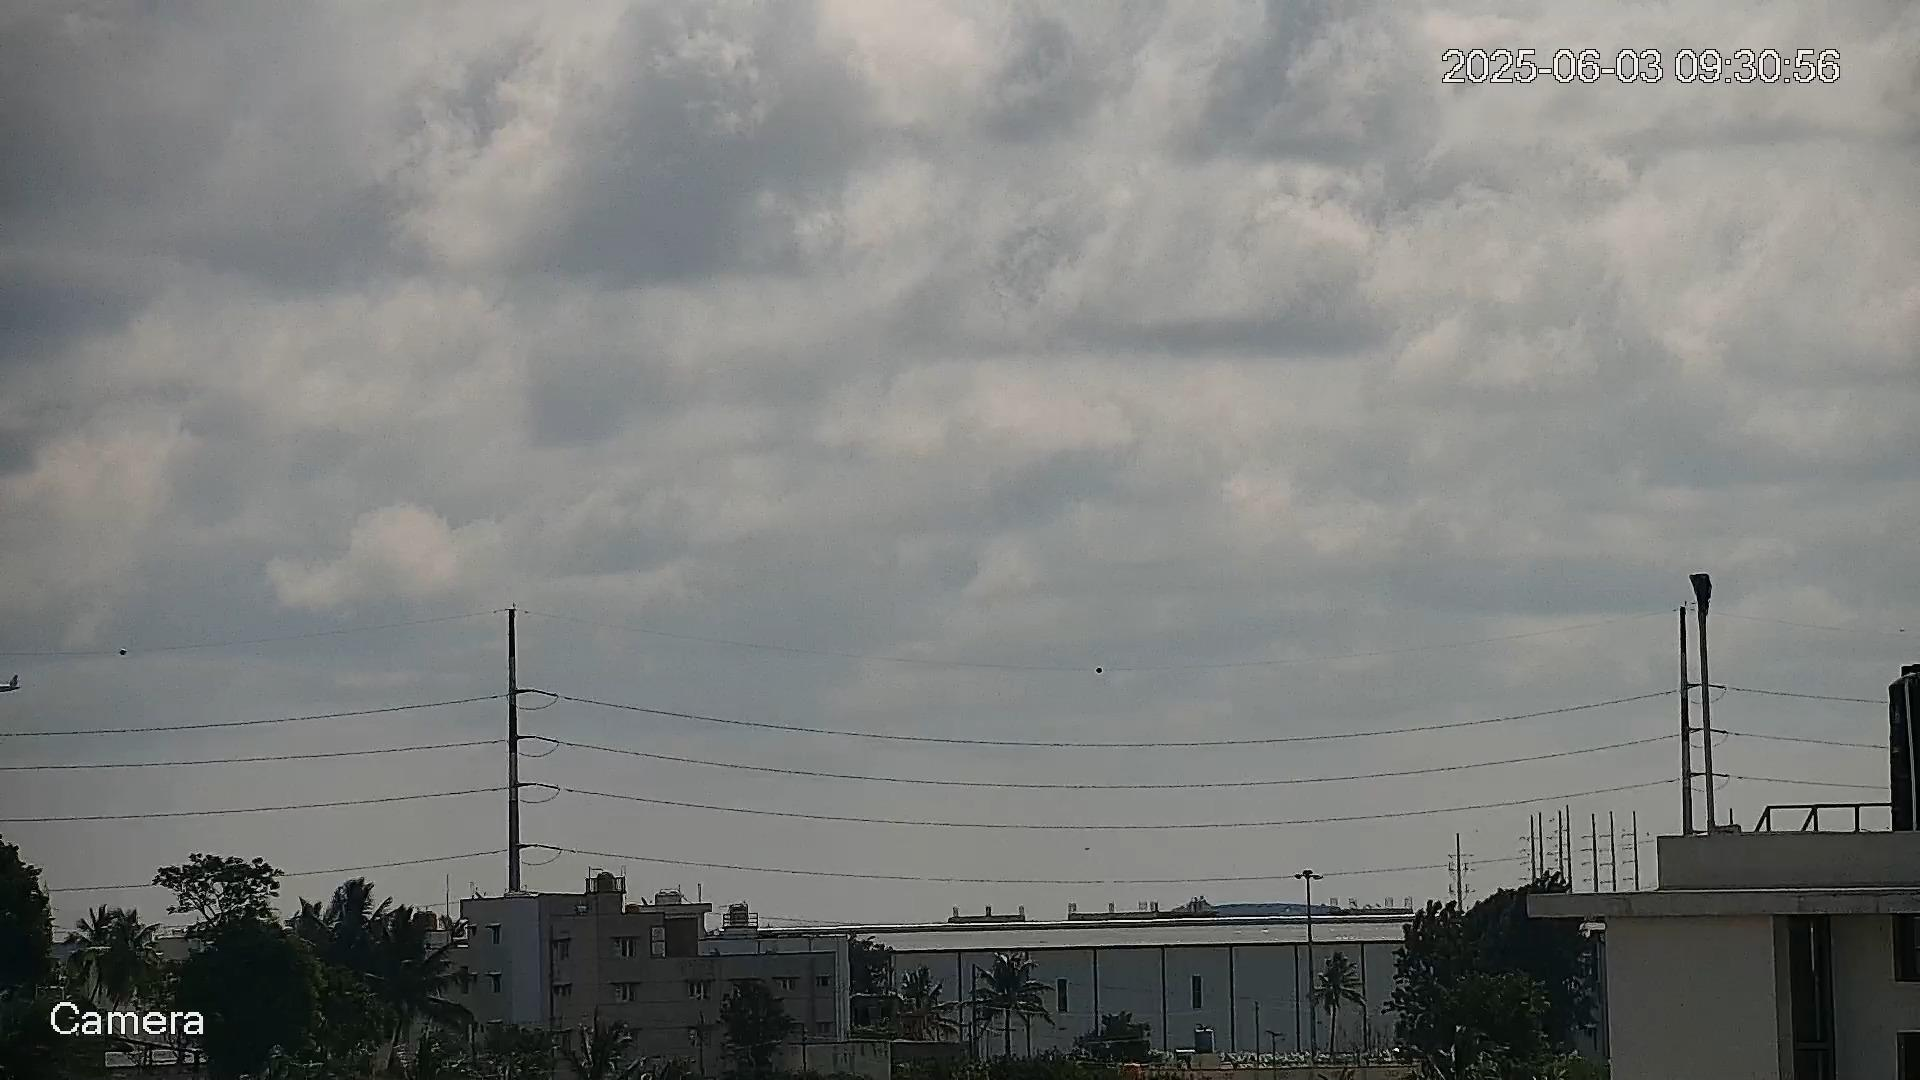Aircraft: (0, 674, 22, 695)
